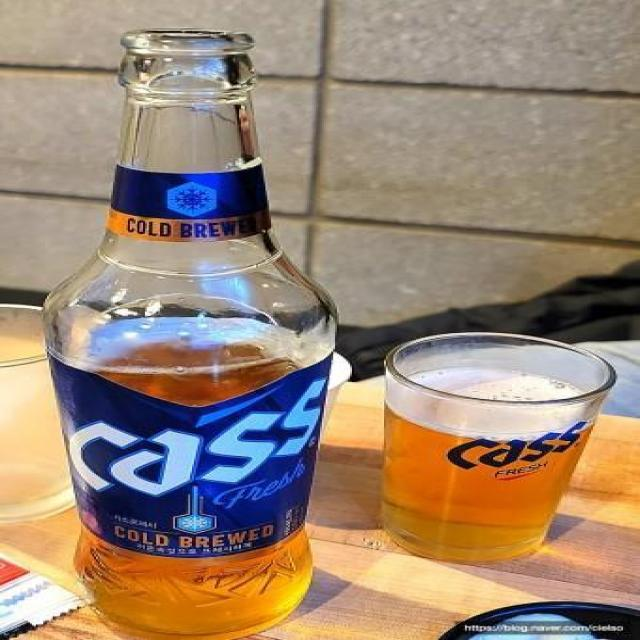beer-bottle: (52, 23, 346, 635)
